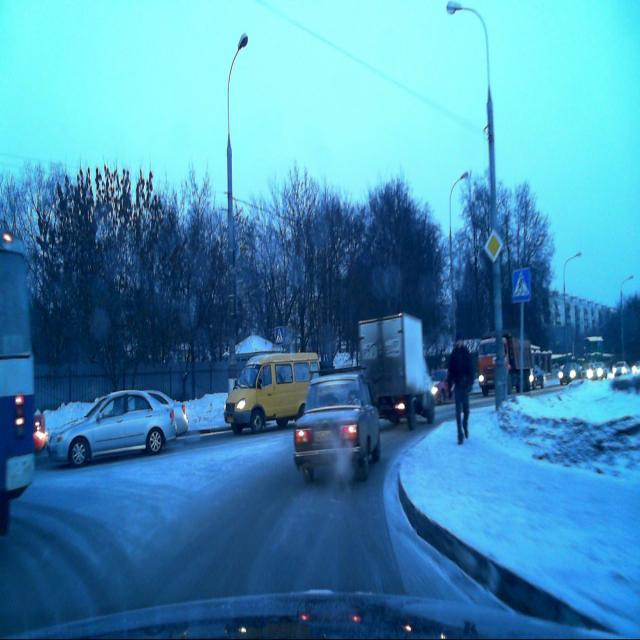object: (520, 308, 524, 398)
road sign: (512, 267, 532, 303), (484, 228, 502, 262), (274, 325, 284, 344)
